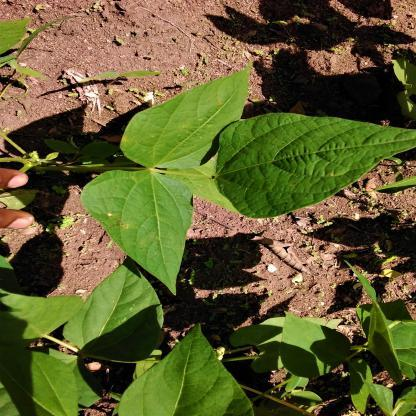Beans_Angular_LeafSpot: (221, 109, 416, 221), (86, 165, 189, 301)
